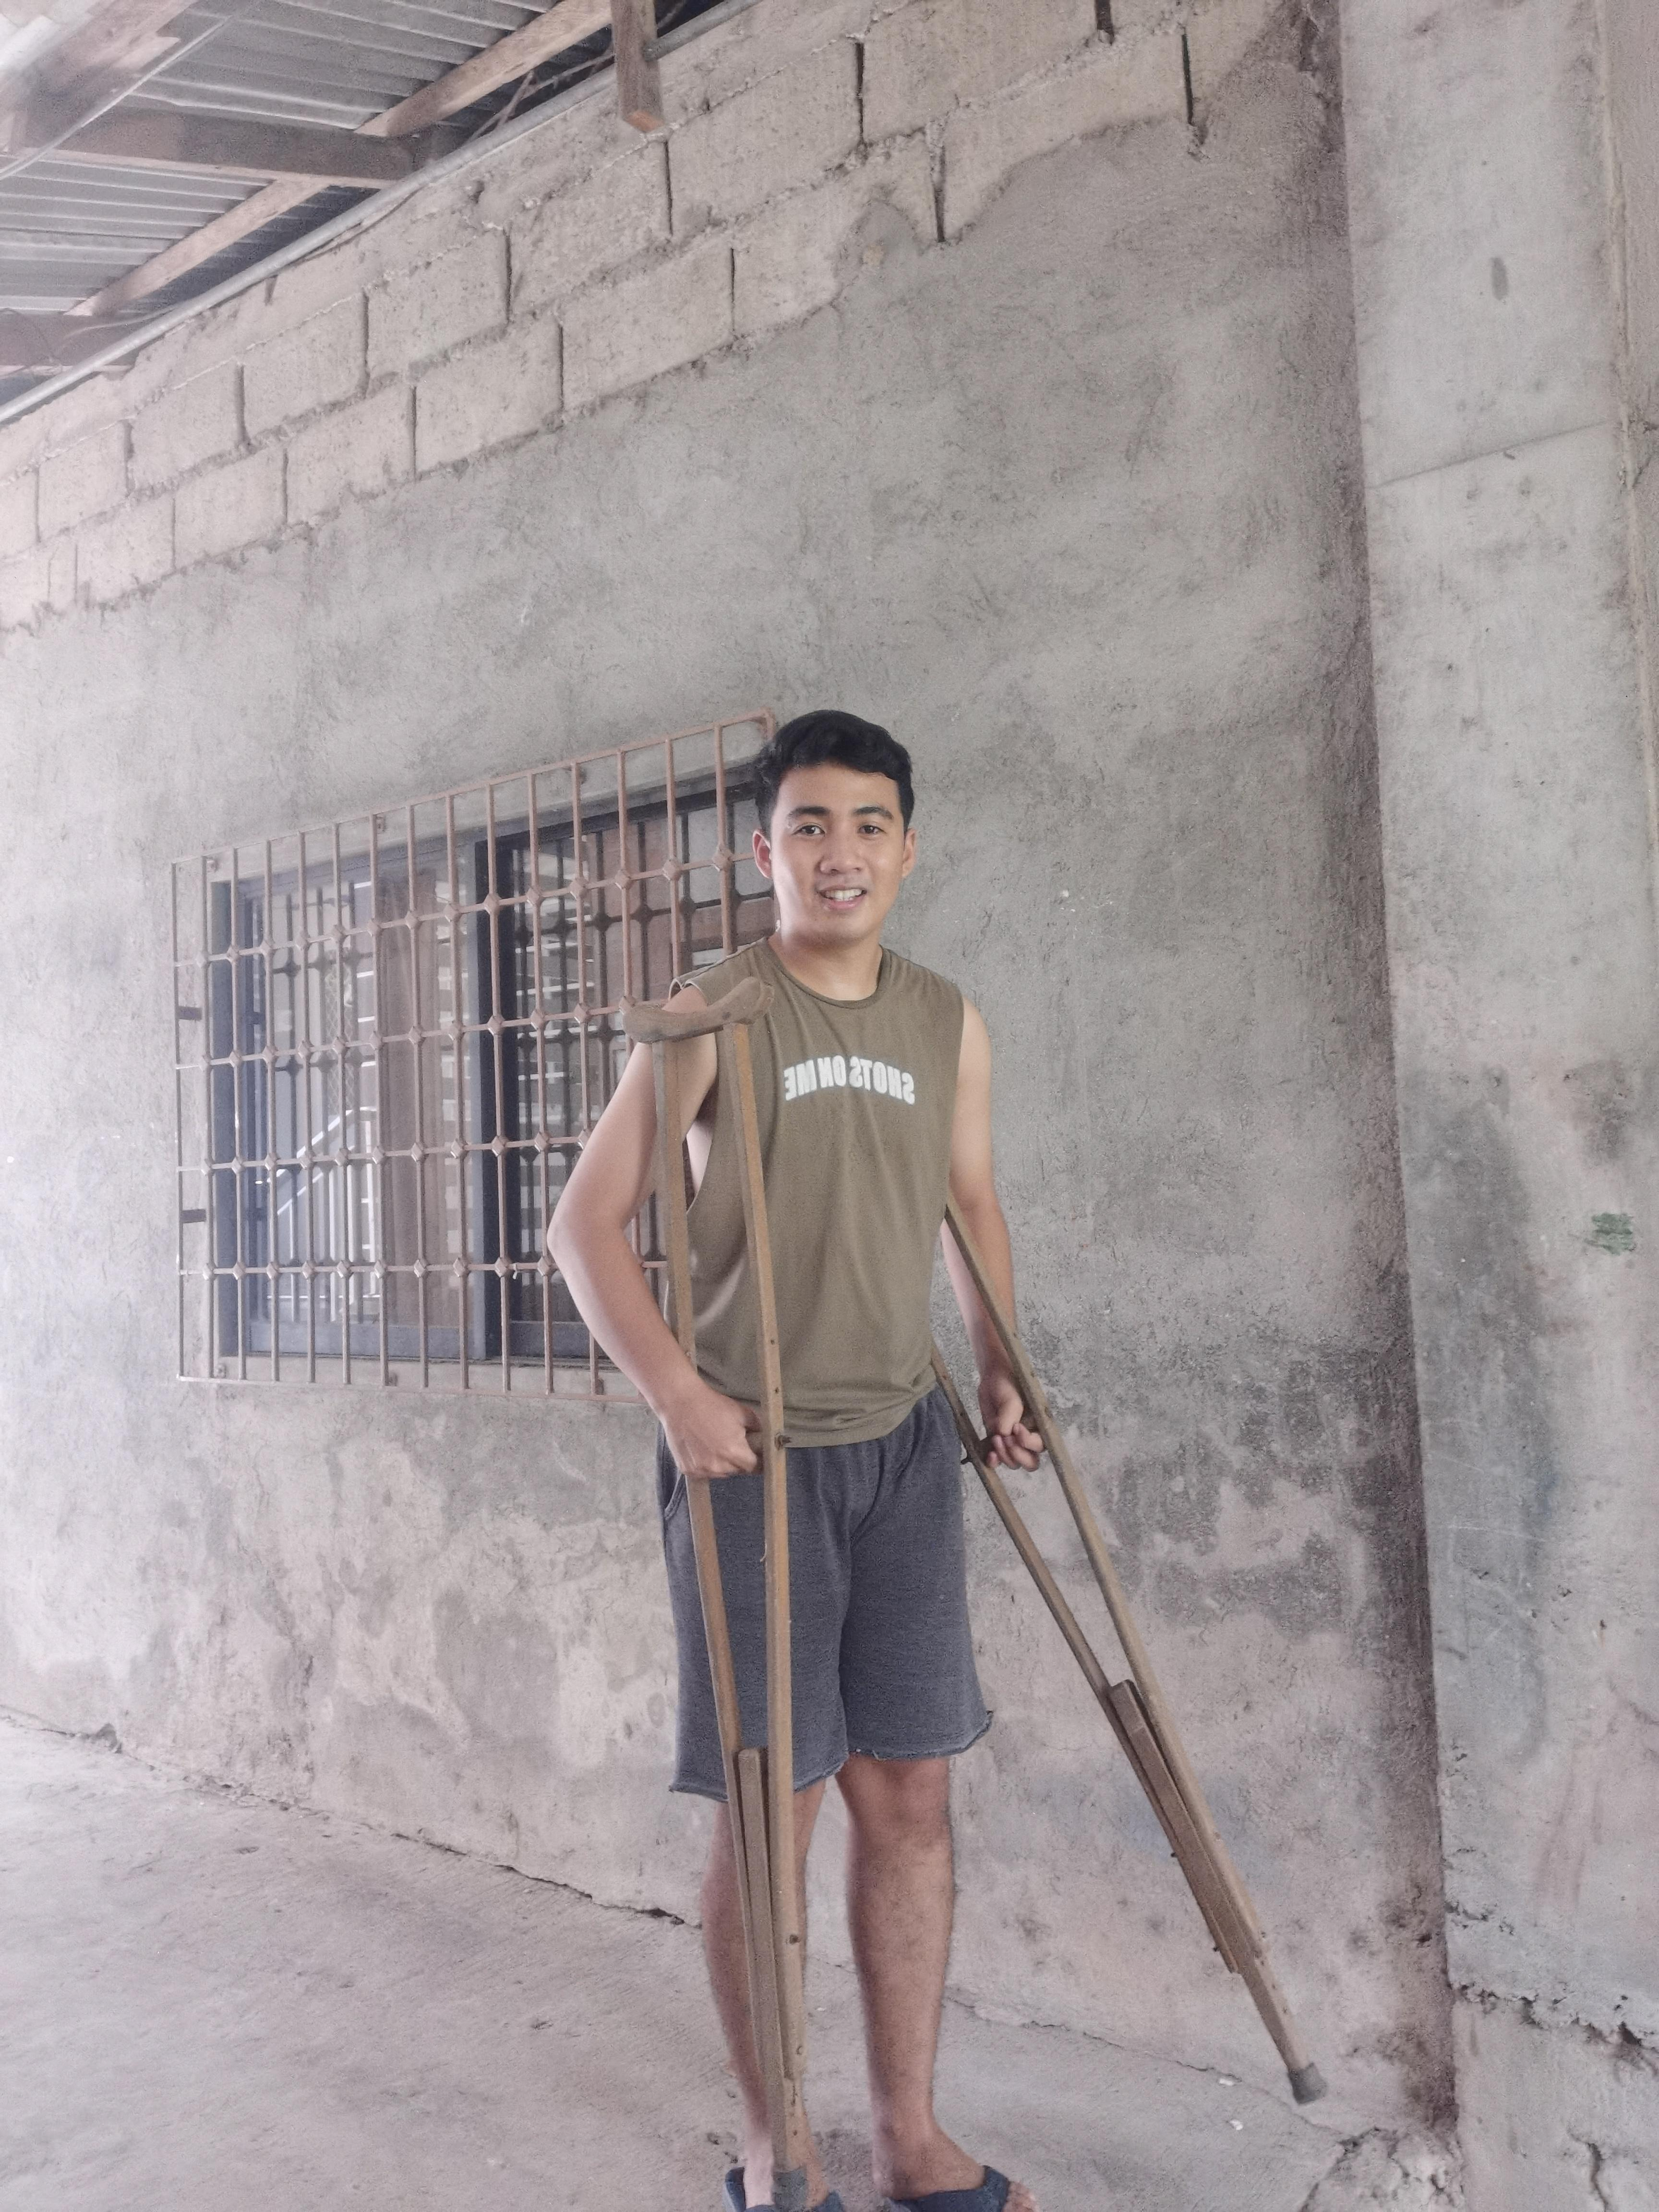crutches: (547, 711, 1330, 2212)
